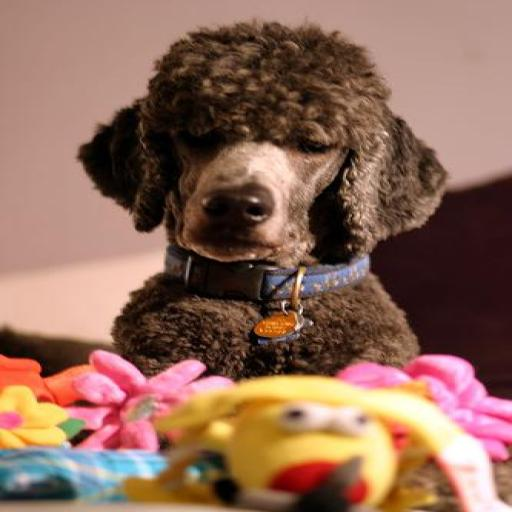dog_face: (72, 28, 443, 266)
